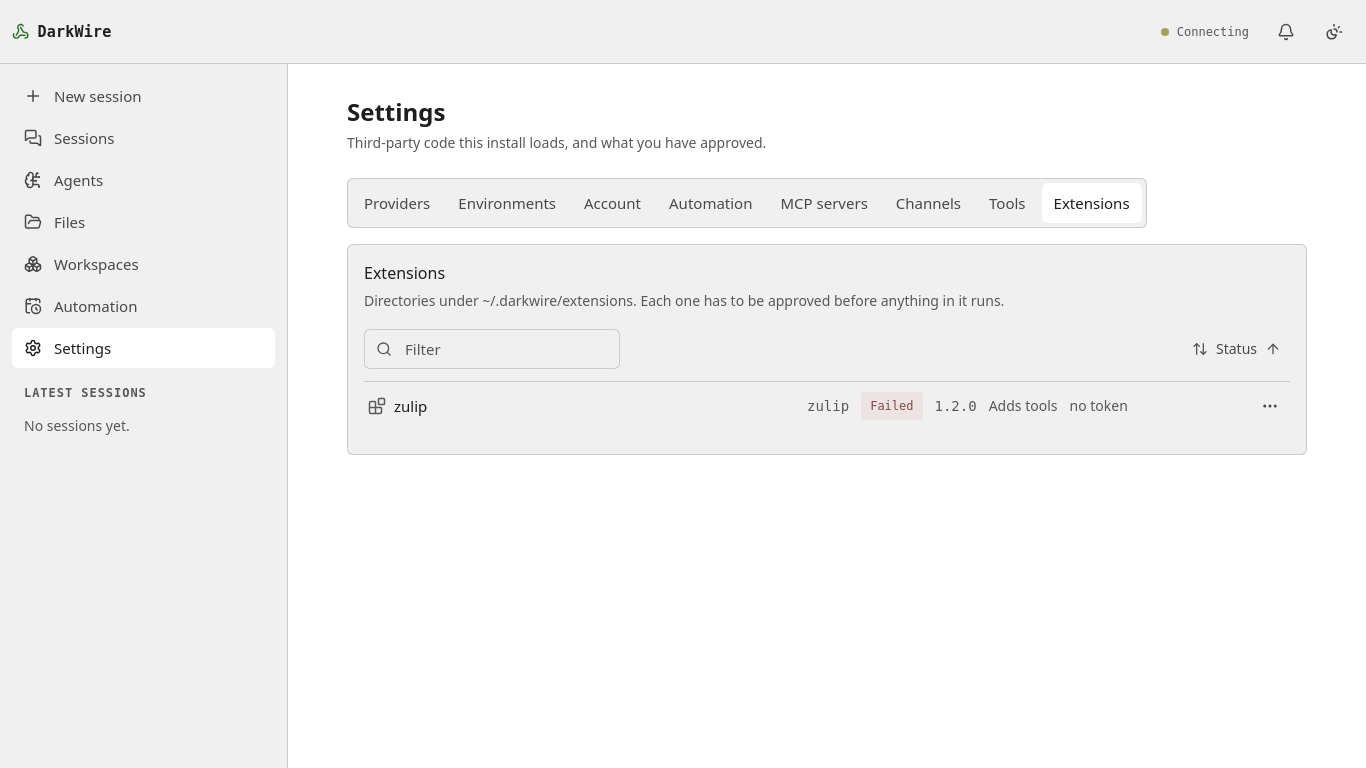
Test case: the Extensions panel › offers Approve again on an extension that failed, not only a new one
This screenshot has width=1366, height=768.
Expected: the text "no token" is shown, top-left (1070, 395), bottom-right (1128, 417)
What coordinates should you click on to do the following:
click the button named "Actions for zulip"
I would click on:
 (1270, 406)
Its box is top-left (1250, 386), bottom-right (1290, 426).
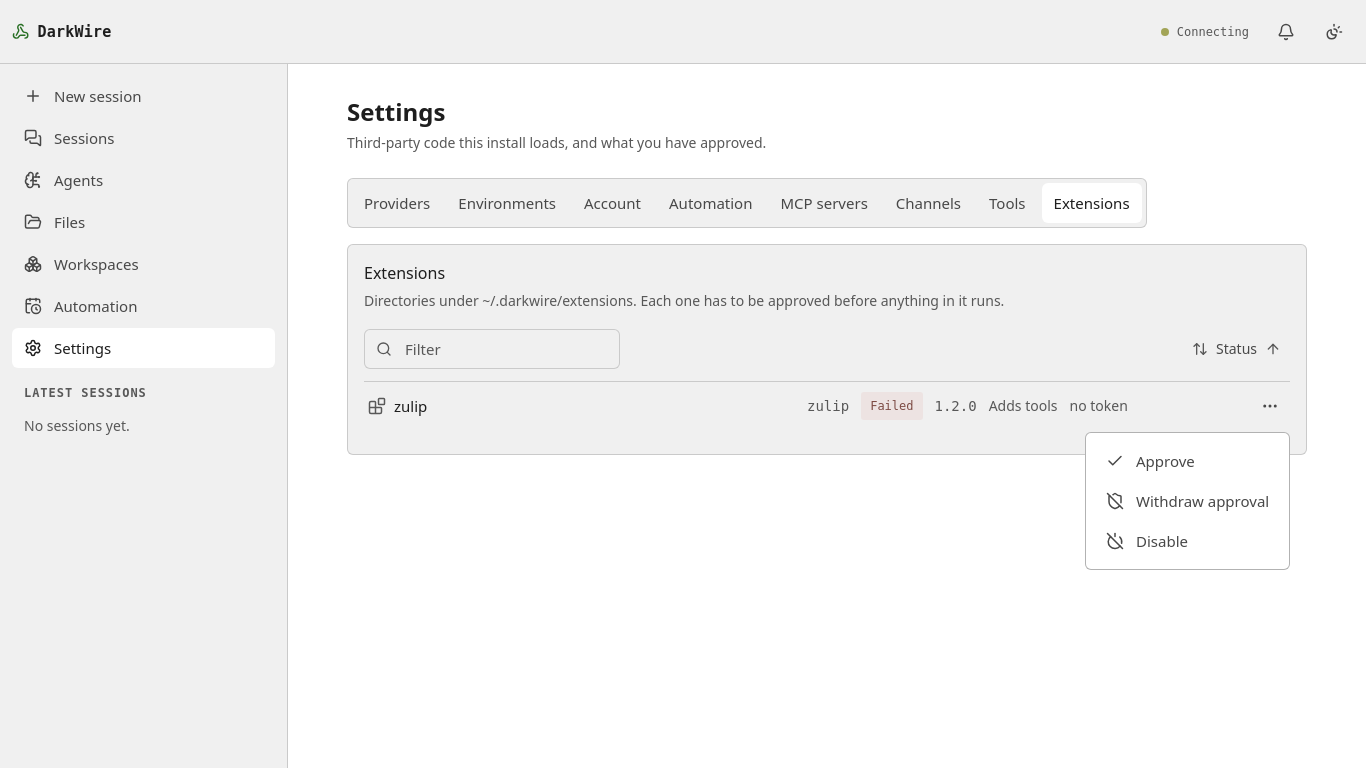
Now the menu item "Approve" is shown, box top-left (1106, 451), bottom-right (1195, 471)
